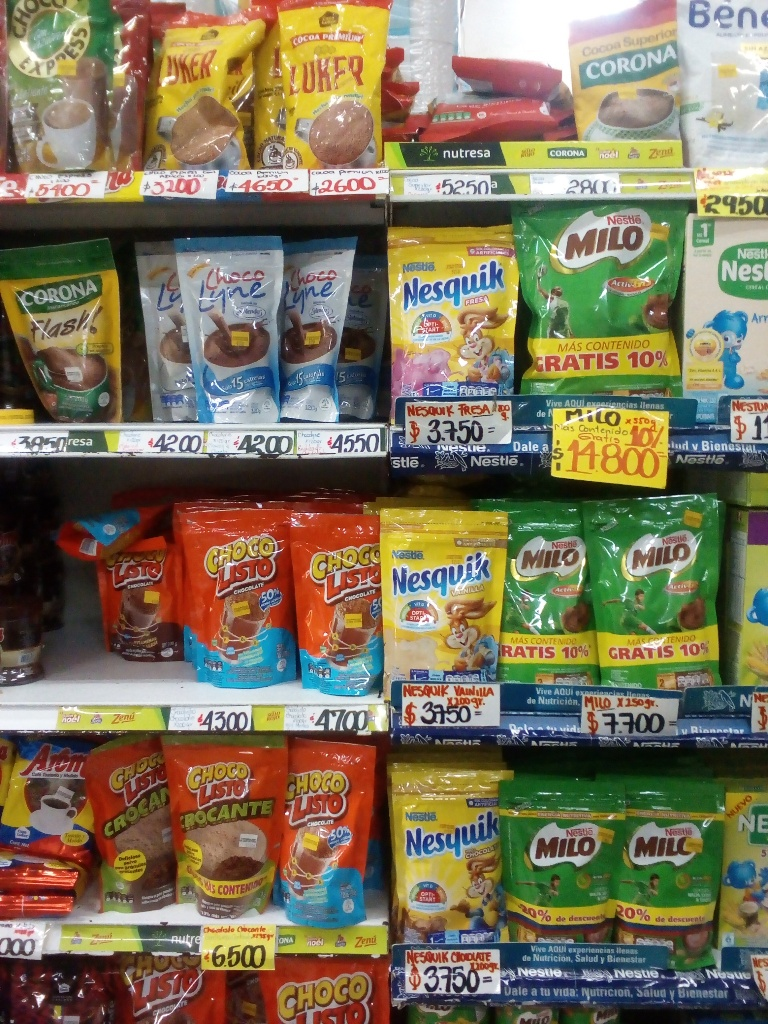COL0170102DYP25000: (79, 732, 209, 916)
COL0170104DYP20000: (184, 500, 292, 691)
COL0170203DYP25000: (503, 773, 619, 944)
COL0170305DYP20000: (388, 227, 514, 400)
COL0170306DYP20000: (381, 501, 502, 700)
